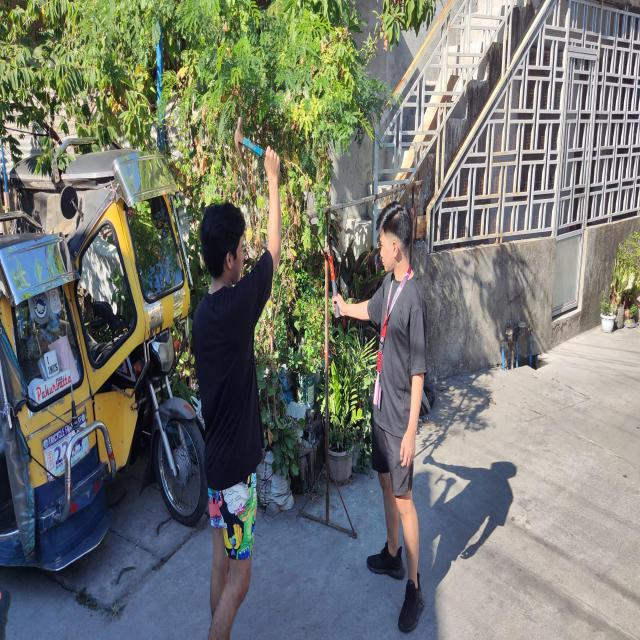hammer: (234, 116, 284, 172), (322, 244, 341, 318)
